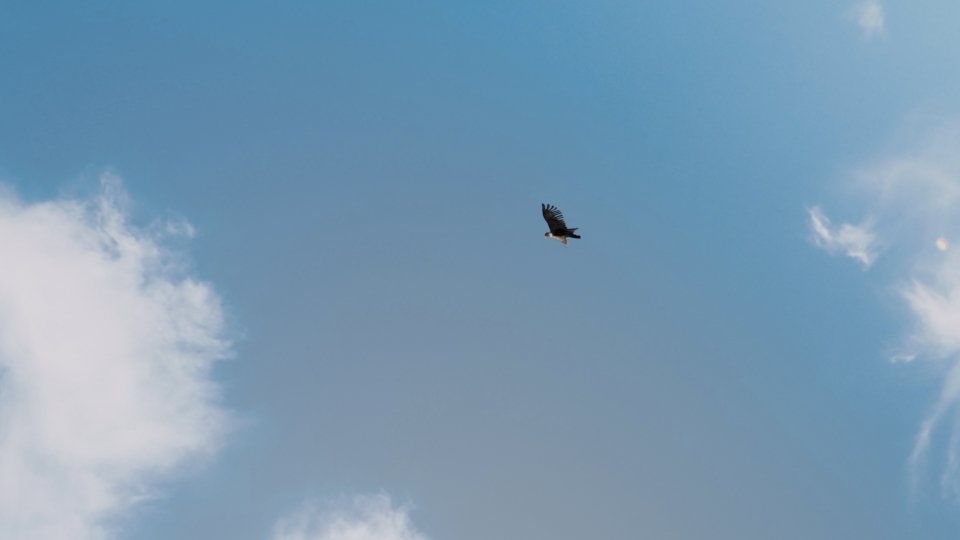bird: (539, 200, 578, 245)
